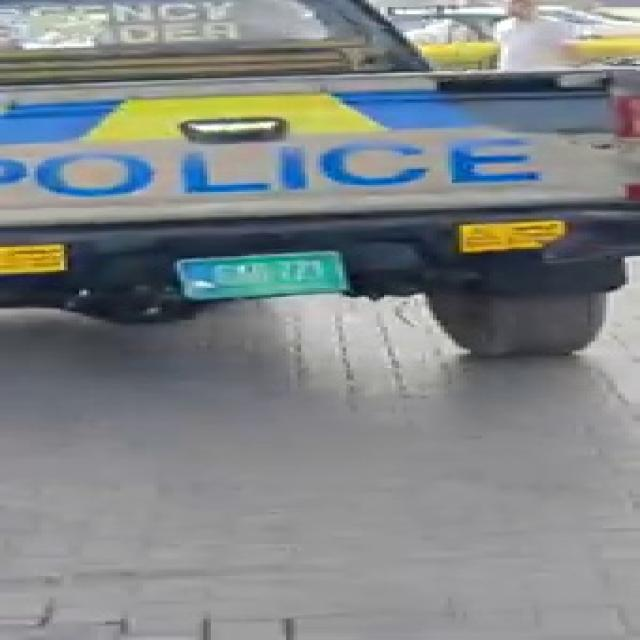police: (0, 12, 640, 354)
